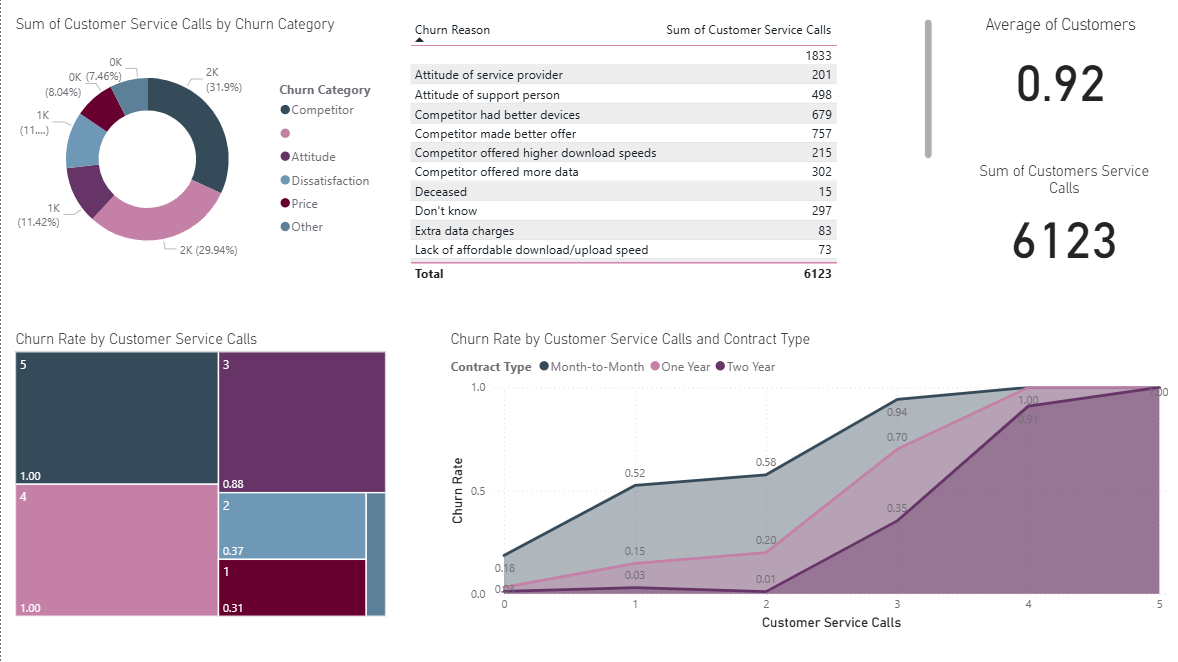

This screenshot's page, from the dashboard's own definition file:
{"tool":"powerbi","page":{"name":"Customer Service Calls","canvas":[1280,720],"ordinal":3},"visuals":[{"type":"donutChart","fields":{"Category":["SkyLink - Dataset.Churn Category"],"Y":["Sum(SkyLink - Dataset.Customer Service Calls)"]},"box":[10.5,18.8,410.2,294.1],"z":0},{"type":"treemap","fields":{"Group":["SkyLink - Dataset.Customer Service Calls"],"Values":["SkyLink - Dataset.Churn Rate"]},"box":[10.5,359.8,410.2,315.2],"z":1000},{"type":"areaChart","fields":{"Category":["SkyLink - Dataset.Customer Service Calls"],"Y":["SkyLink - Dataset.Churn Rate"],"Series":["SkyLink - Dataset.Contract Type"]},"box":[480.5,359.8,786.3,329.3],"z":2000},{"type":"card","title":"Average of Customers","fields":{"Values":["Avg(SkyLink - Dataset.Customer Service Calls)"]},"box":[1045.3,18.8,199.2,113.7],"z":3000},{"type":"card","title":"Sum of Customers Service Calls","fields":{"Values":["Sum(SkyLink - Dataset.Customer Service Calls)"]},"box":[1045.3,177,207.4,120.7],"z":4000},{"type":"tableEx","fields":{"Values":["SkyLink - Dataset.Churn Reason","Sum(SkyLink - Dataset.Customer Service Calls)"]},"box":[435.9,18.8,575.4,294.1],"z":5000}]}

Visuals, with their boxes in screenshot pixels (x1, y1, x2, y2), scaled from the page's 1280x720 canvas onto the 1178x662 screenshot:
donutChart - SkyLink - Dataset.Churn Category x Sum(SkyLink - Dataset.Customer Service Calls): pyautogui.locateOnScreen(10, 17, 387, 288)
treemap - SkyLink - Dataset.Customer Service Calls x SkyLink - Dataset.Churn Rate: pyautogui.locateOnScreen(10, 331, 387, 621)
areaChart - SkyLink - Dataset.Customer Service Calls x SkyLink - Dataset.Churn Rate: pyautogui.locateOnScreen(442, 331, 1166, 634)
"Average of Customers" card: pyautogui.locateOnScreen(962, 17, 1145, 122)
"Sum of Customers Service Calls" card: pyautogui.locateOnScreen(962, 163, 1153, 274)
tableEx - SkyLink - Dataset.Churn Reason x Sum(SkyLink - Dataset.Customer Service Calls): pyautogui.locateOnScreen(401, 17, 931, 288)
